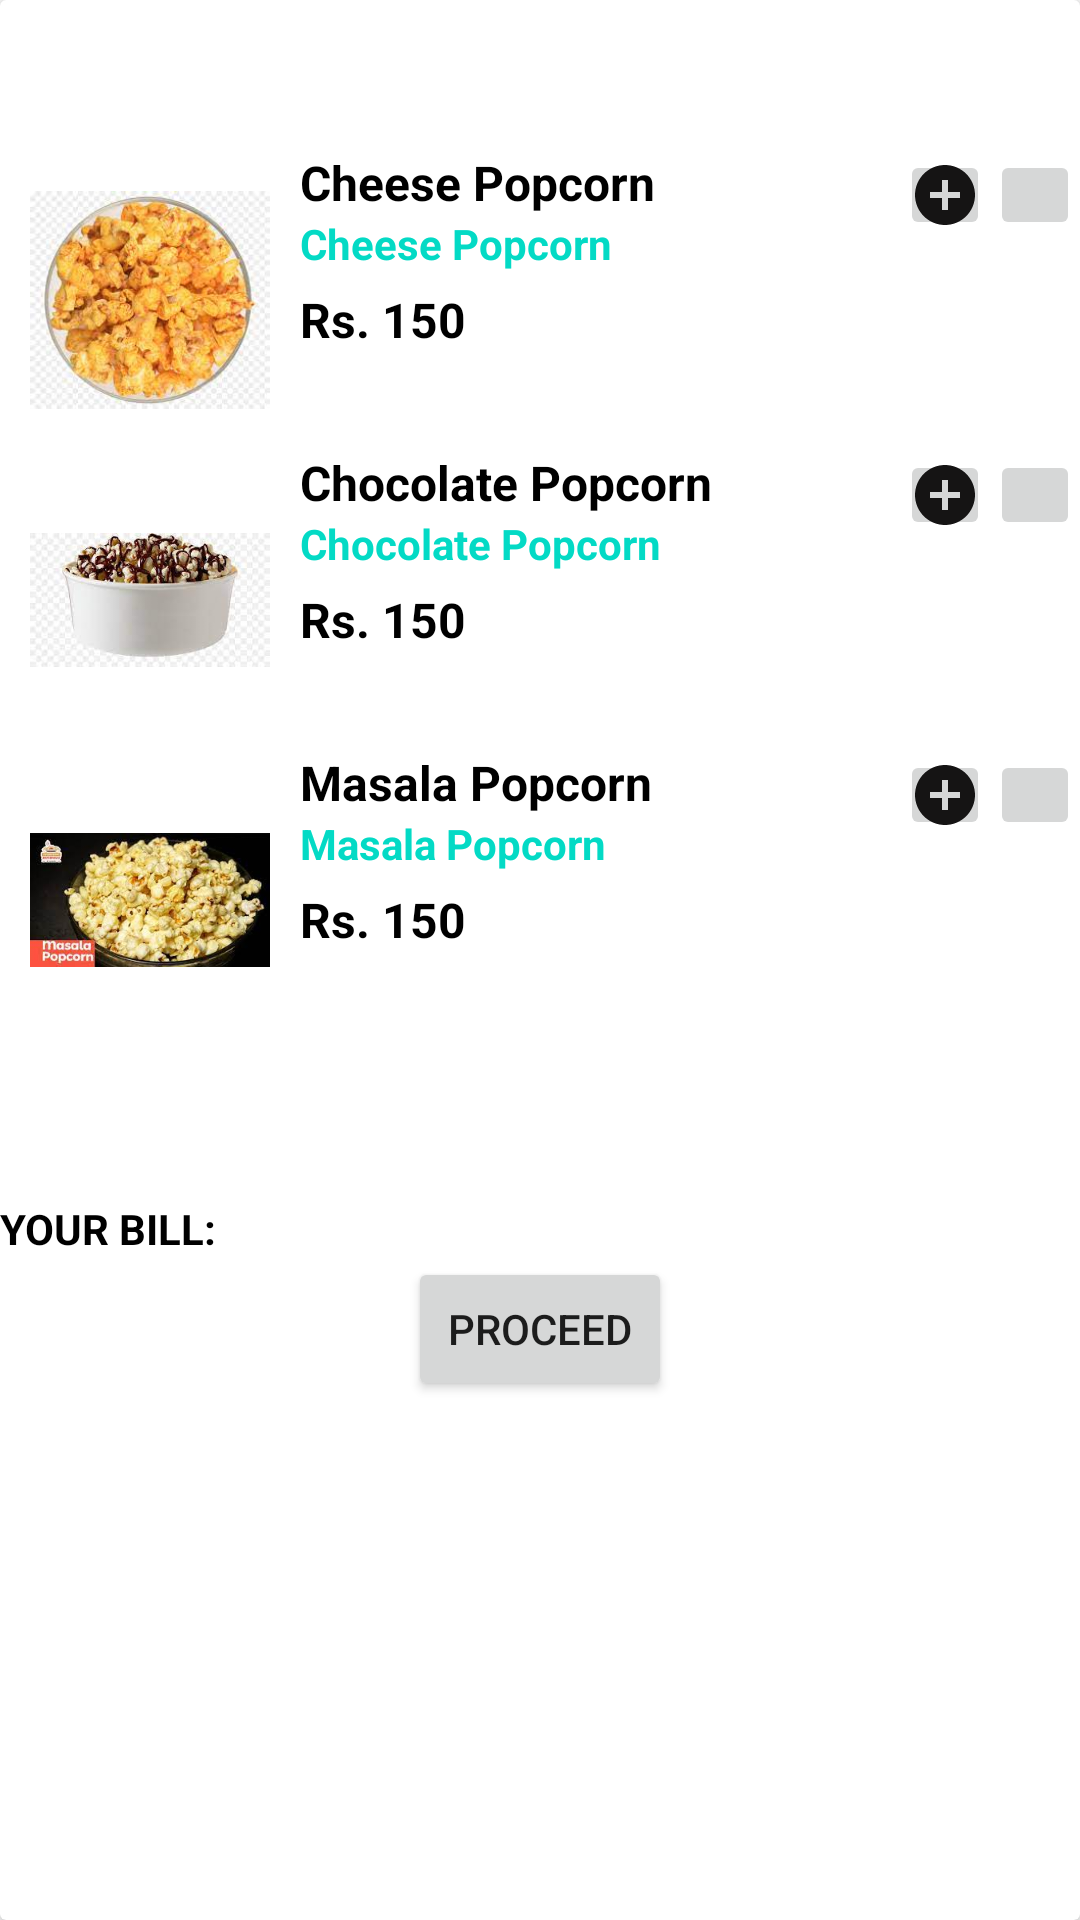

Point at icon controls on the screen. Image size 1080x1920, points as (x=x, y=y).
add circle: (x=945, y=195), (x=945, y=495), (x=945, y=795)
